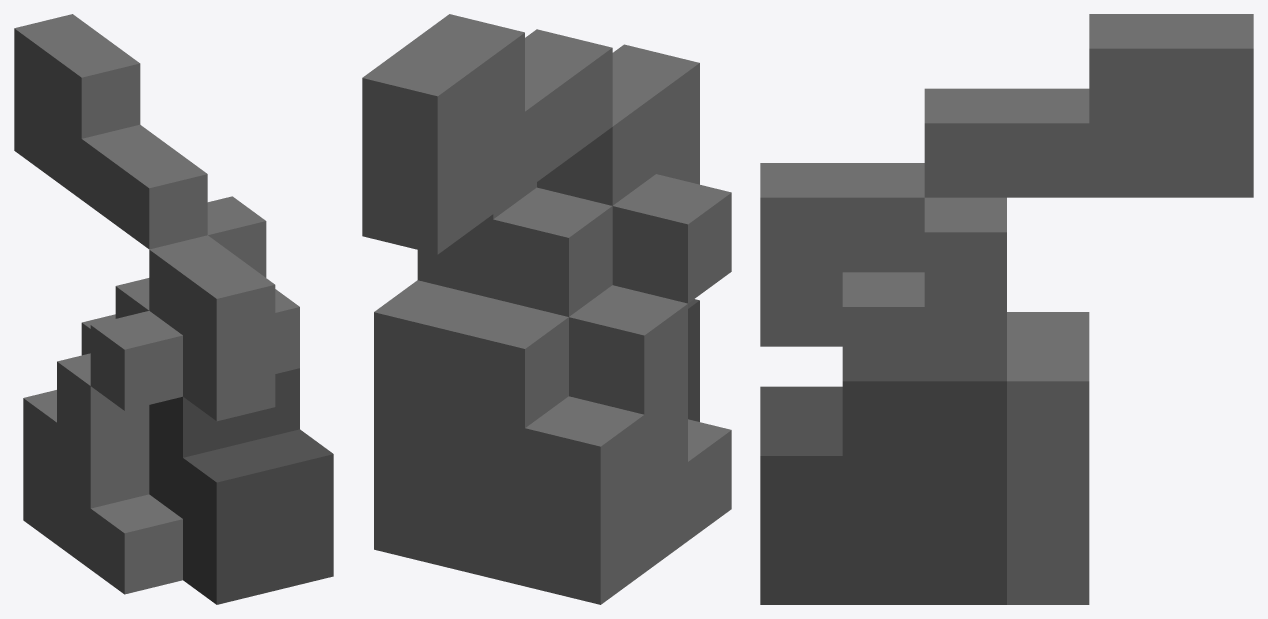
Rendered from Golem Leg 2.obj.
3 renders of one model, left to right at view 1: azimuth 30°, elevation 25°; view 2: azimuth 150°, elevation 25°; view 3: azimuth 270°, elevation 25°, orthographic. The views are drawn at different scales.
Size of the model in its own units: 3 by 7 by 6.
Materials: 1 (1 with a texture image).
